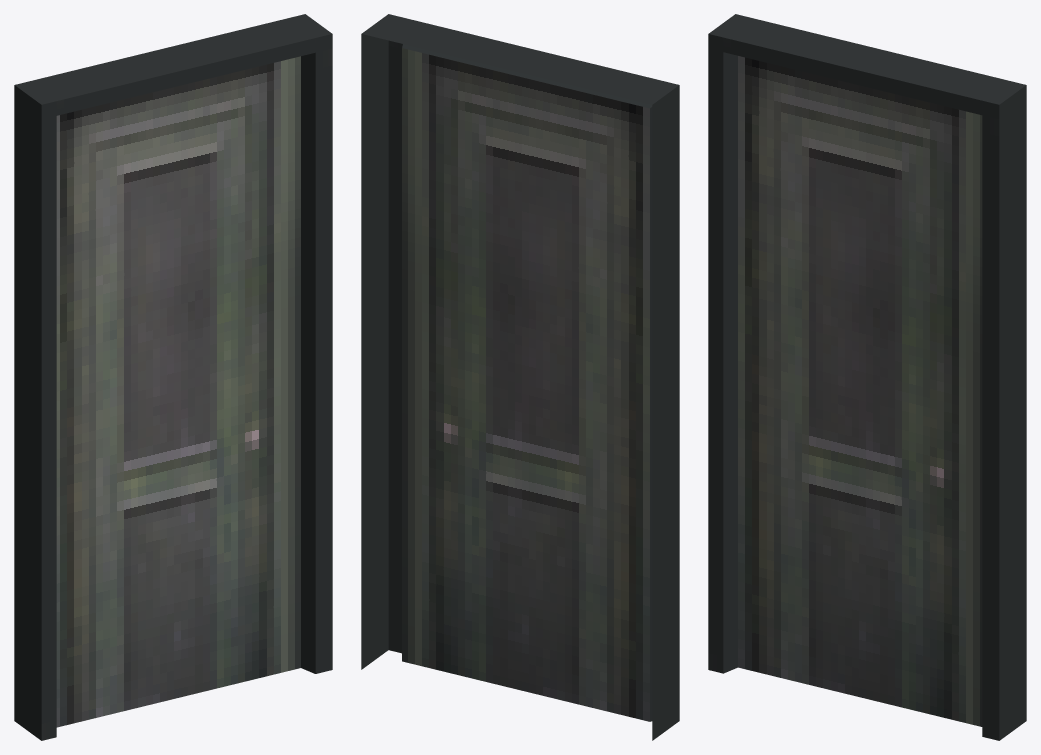
File: door.glb
3 views of the same model, side by side, from view 1: azimuth 30°, elevation 25°; view 2: azimuth 150°, elevation 25°; view 3: azimuth 330°, elevation 25° (orthographic).
Parts seen in each view (by area): view 1: door-col; view 2: door-col; view 3: door-col.
Part boxes in pixels (x1,y1,x2,y2): door-col: [14, 14, 332, 740]; door-col: [361, 14, 679, 740]; door-col: [708, 14, 1026, 740].
Bounding box in the file's own units: 2.17 × 4.54 × 0.3511.
Materials: 1 (1 with a texture image).
